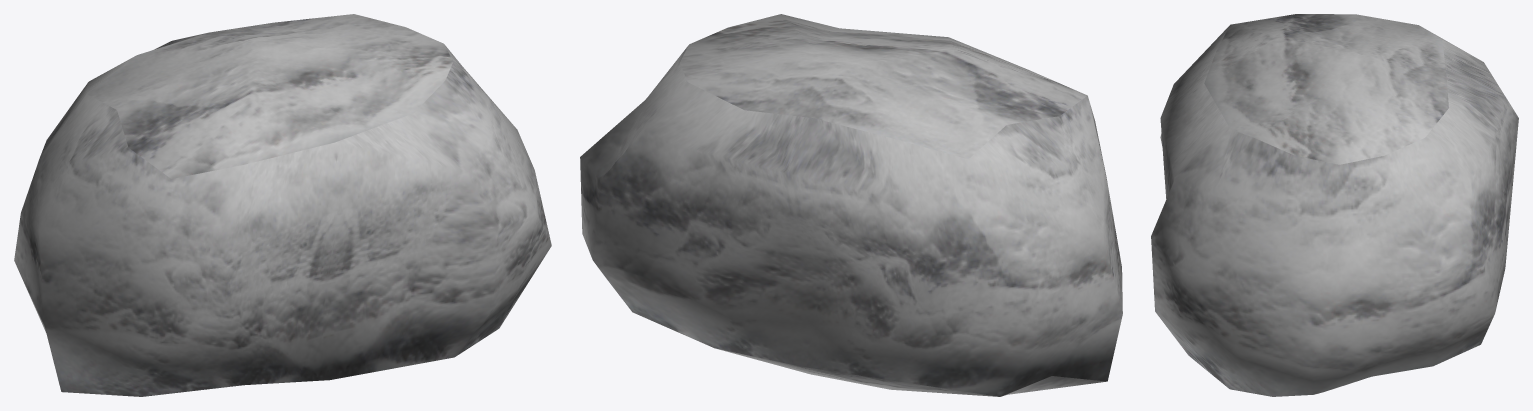
Rendered from snow_d_a07c.fbx.
The picture shows the model from 3 angles, left to right: view 1: azimuth 30°, elevation 25°; view 2: azimuth 150°, elevation 25°; view 3: azimuth 270°, elevation 25°; orthographic projection. The views are drawn at different scales.
Visible parts, largest first — view 1: d_a07c; view 2: d_a07c; view 3: d_a07c.
Boxes of the visible parts, x1,y1,x2,y2 form: d_a07c: (14, 14, 551, 396); d_a07c: (580, 14, 1122, 396); d_a07c: (1151, 14, 1518, 396).
Bounding box in the file's own units: 342 × 202 × 235.
